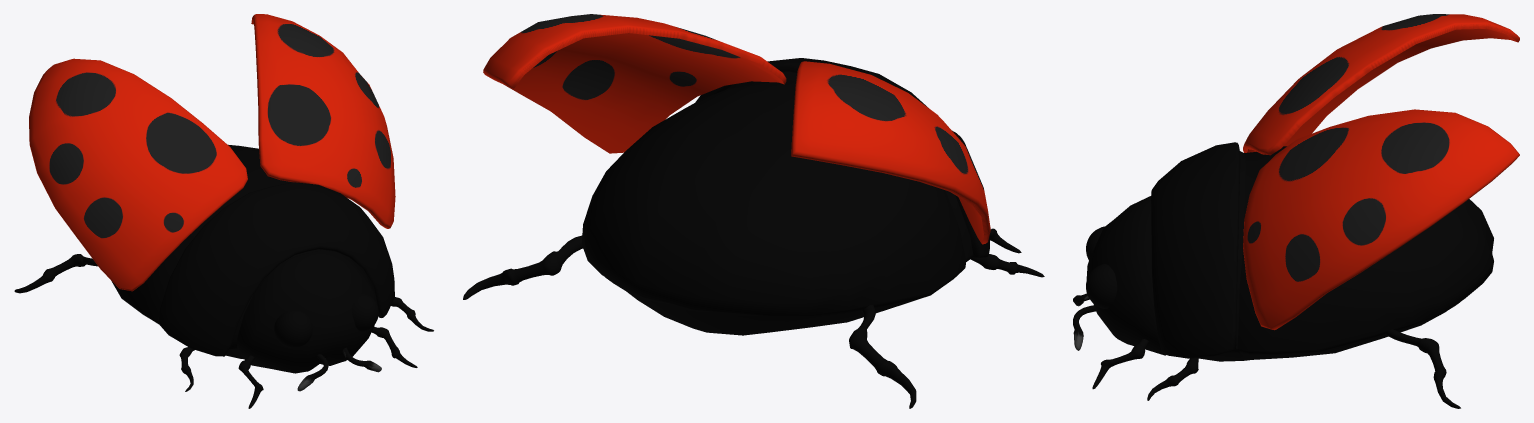
File: beatle.fbx
3 views of the same model, side by side, from view 1: azimuth 30°, elevation 25°; view 2: azimuth 150°, elevation 25°; view 3: azimuth 270°, elevation 25° (orthographic). The views are drawn at different scales.
Visible parts, largest first — view 1: beatle1, beatle1.002, beatle1.001; view 2: beatle1, beatle1.001, beatle1.002; view 3: beatle1, beatle1.001, beatle1.002.
Boxes of the visible parts, x1,y1,x2,y2 form: beatle1: (14, 144, 433, 408); beatle1.002: (29, 58, 247, 291); beatle1.001: (251, 14, 395, 228); beatle1: (463, 58, 1044, 408); beatle1.001: (483, 14, 786, 153); beatle1.002: (791, 61, 990, 244); beatle1: (1073, 142, 1493, 408); beatle1.001: (1243, 109, 1519, 330); beatle1.002: (1243, 14, 1519, 155).
Size of the model in its own units: 295 by 200 by 293.
1 material, 1 textured.
